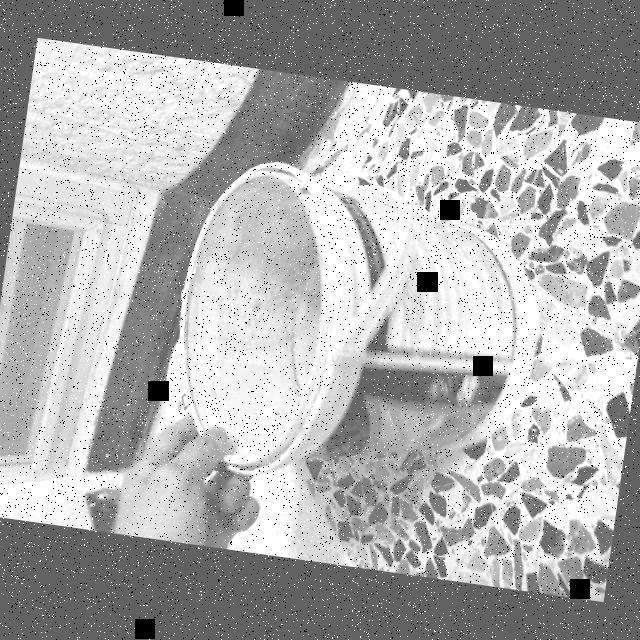paint_bucket: (157, 152, 558, 514)
